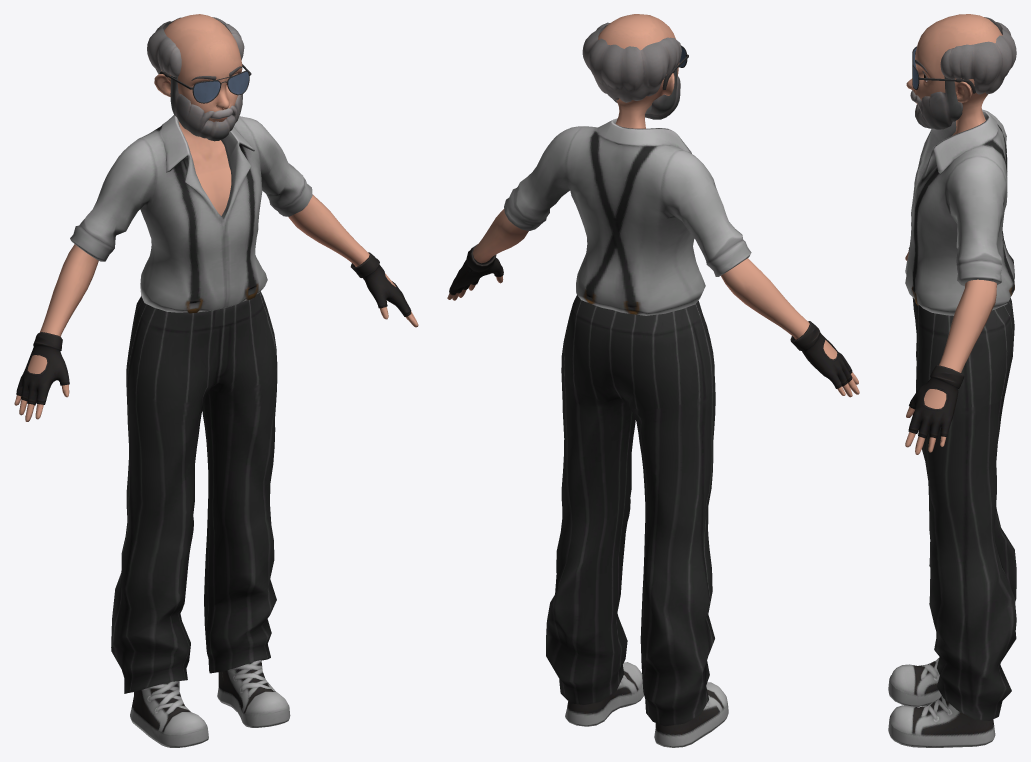
File: StaffHenry_Mesh.obj
3 renders of one model, left to right at view 1: azimuth 30°, elevation 25°; view 2: azimuth 150°, elevation 25°; view 3: azimuth 270°, elevation 25°, orthographic. The views are drawn at different scales.
Visible parts, largest first — view 1: StaffHenry_Mesh_0; view 2: StaffHenry_Mesh_0; view 3: StaffHenry_Mesh_0.
Boxes of the visible parts, x1,y1,x2,y2 form: StaffHenry_Mesh_0: [14, 14, 418, 747]; StaffHenry_Mesh_0: [447, 14, 859, 747]; StaffHenry_Mesh_0: [888, 14, 1016, 747].
Bounding box in the file's own units: 1.06 × 1.79 × 0.2966.
1 material, 1 textured.
